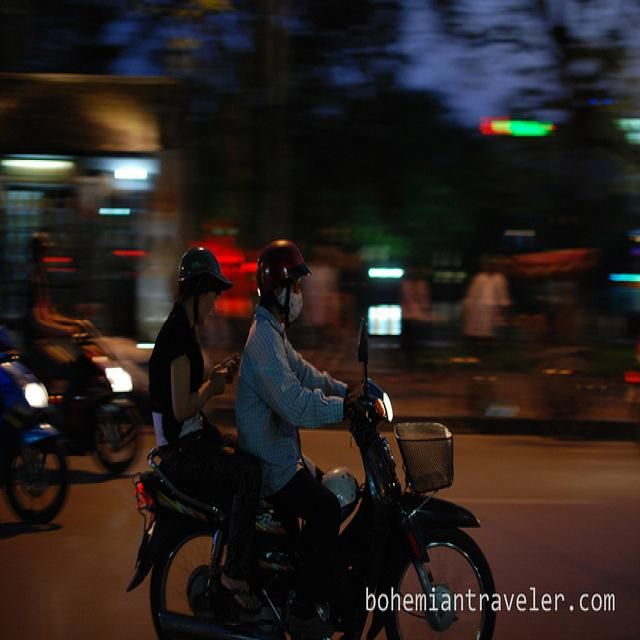motor: (127, 316, 496, 631), (30, 331, 146, 476), (1, 350, 69, 522)
